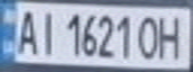1: (115, 11, 136, 60), (60, 8, 81, 56)
2: (97, 10, 118, 58)
6: (78, 10, 100, 57)
A: (12, 6, 42, 56)
H: (154, 11, 190, 61)
I: (33, 7, 60, 56)
O: (136, 11, 163, 61)
